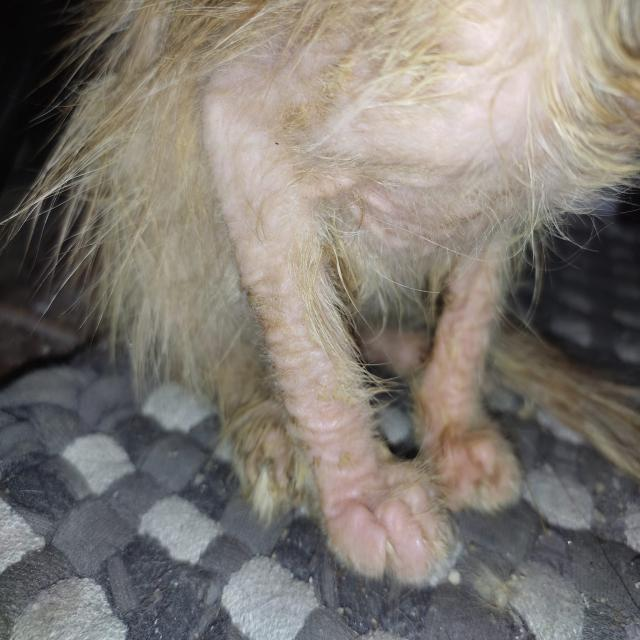Mange: (349, 477, 433, 565), (219, 120, 268, 199), (280, 337, 328, 409), (314, 412, 366, 450), (442, 325, 474, 381), (475, 443, 499, 471)
